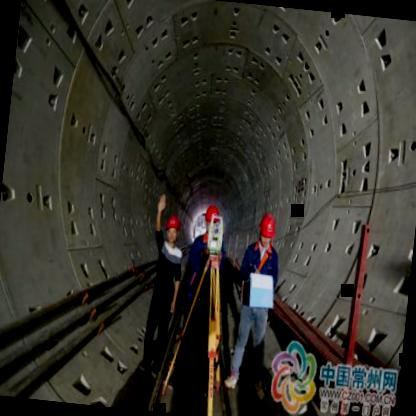helmet: (257, 210, 277, 247), (203, 202, 221, 234), (164, 211, 182, 242)
